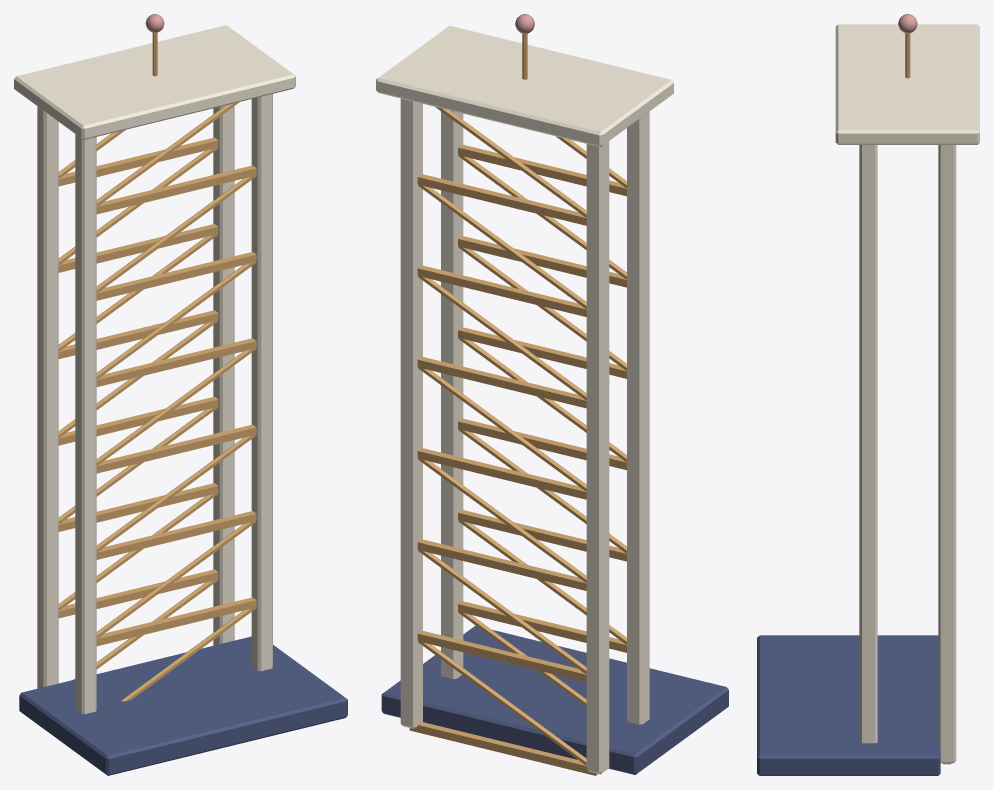
File: orb4_gag_launch_tower.glb
3 renders of one model, left to right at view 1: azimuth 30°, elevation 25°; view 2: azimuth 150°, elevation 25°; view 3: azimuth 270°, elevation 25°, orthographic. The views are drawn at different scales.
Visible parts, largest first — view 1: orb4_gag_launch_tower__orb3-ivory-ceramic, orb4_gag_launch_tower__orb3-brushed-brass, orb4_gag_launch_tower__orb3-indigo-glaze; view 2: orb4_gag_launch_tower__orb3-ivory-ceramic, orb4_gag_launch_tower__orb3-brushed-brass, orb4_gag_launch_tower__orb3-indigo-glaze; view 3: orb4_gag_launch_tower__orb3-ivory-ceramic, orb4_gag_launch_tower__orb3-indigo-glaze.
Boxes of the visible parts, left/top/right/bottom form: orb4_gag_launch_tower__orb3-ivory-ceramic: left=14, top=25, right=295, bottom=713; orb4_gag_launch_tower__orb3-brushed-brass: left=58, top=32, right=256, bottom=701; orb4_gag_launch_tower__orb3-indigo-glaze: left=19, top=636, right=347, bottom=775; orb4_gag_launch_tower__orb3-ivory-ceramic: left=376, top=25, right=673, bottom=774; orb4_gag_launch_tower__orb3-brushed-brass: left=409, top=33, right=626, bottom=775; orb4_gag_launch_tower__orb3-indigo-glaze: left=381, top=625, right=728, bottom=774; orb4_gag_launch_tower__orb3-ivory-ceramic: left=835, top=24, right=979, bottom=763; orb4_gag_launch_tower__orb3-indigo-glaze: left=757, top=635, right=940, bottom=775.
Bounding box in the file's own units: 8.8 × 23.72 × 6.8.
